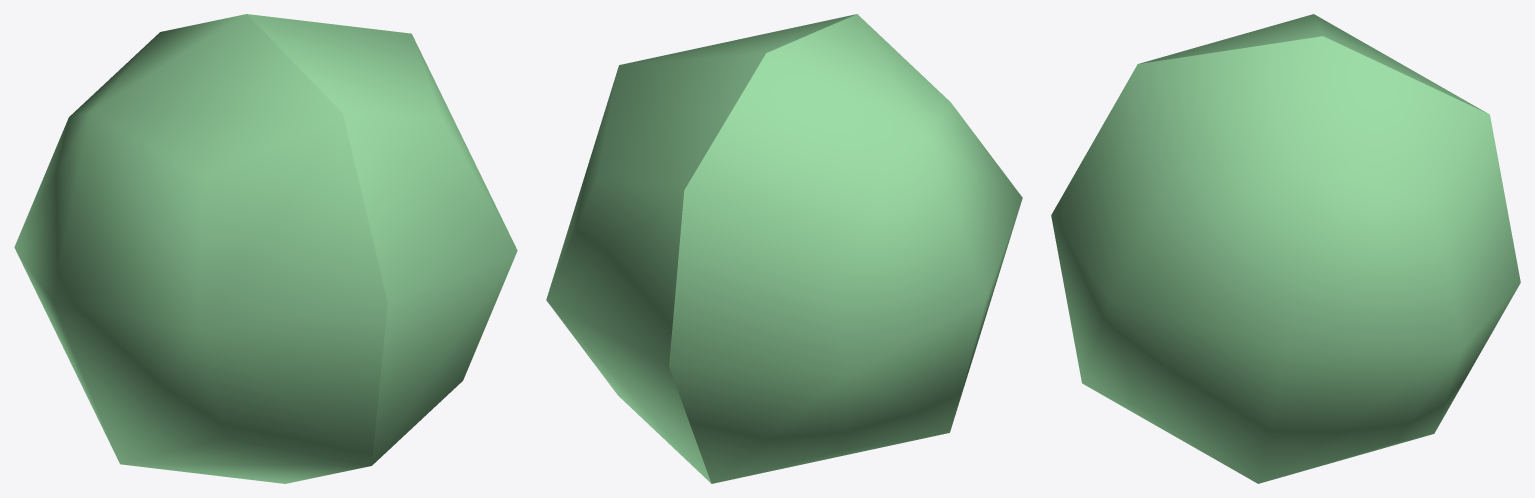
The model's file is spinningcabbage.fbx.
3 renders of one model, left to right at view 1: azimuth 30°, elevation 25°; view 2: azimuth 150°, elevation 25°; view 3: azimuth 270°, elevation 25°, orthographic. The views are drawn at different scales.
Parts seen in each view (by area): view 1: polySurface3; view 2: polySurface3; view 3: polySurface3.
Part boxes in pixels (x1,y1,x2,y2): polySurface3: (14,14,517,483); polySurface3: (546,14,1022,483); polySurface3: (1051,14,1520,483).
Bounding box in the file's own units: 2.43 × 2.4 × 2.4.
